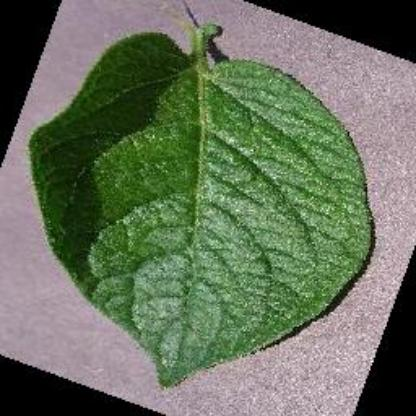Healthy-plant: (23, 13, 389, 405)
